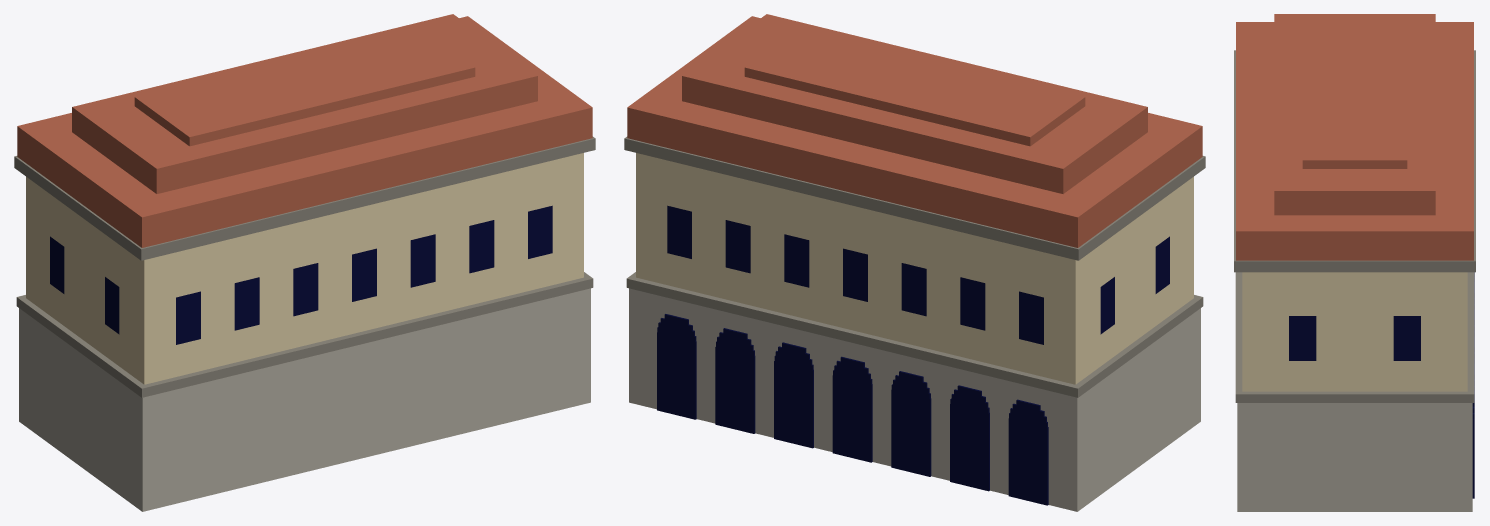
File: env_municipal_hall.obj
3 views of the same model, side by side, from view 1: azimuth 30°, elevation 25°; view 2: azimuth 150°, elevation 25°; view 3: azimuth 270°, elevation 25° (orthographic). The views are drawn at different scales.
Parts seen in each view (by area): view 1: MunicipalHall; view 2: MunicipalHall; view 3: MunicipalHall.
Boxes of the visible parts, x1,y1,x2,y2 form: MunicipalHall: (14, 14, 595, 511); MunicipalHall: (624, 14, 1205, 511); MunicipalHall: (1234, 14, 1475, 511).
Size of the model in its own units: 12.4 by 8.6 by 6.
